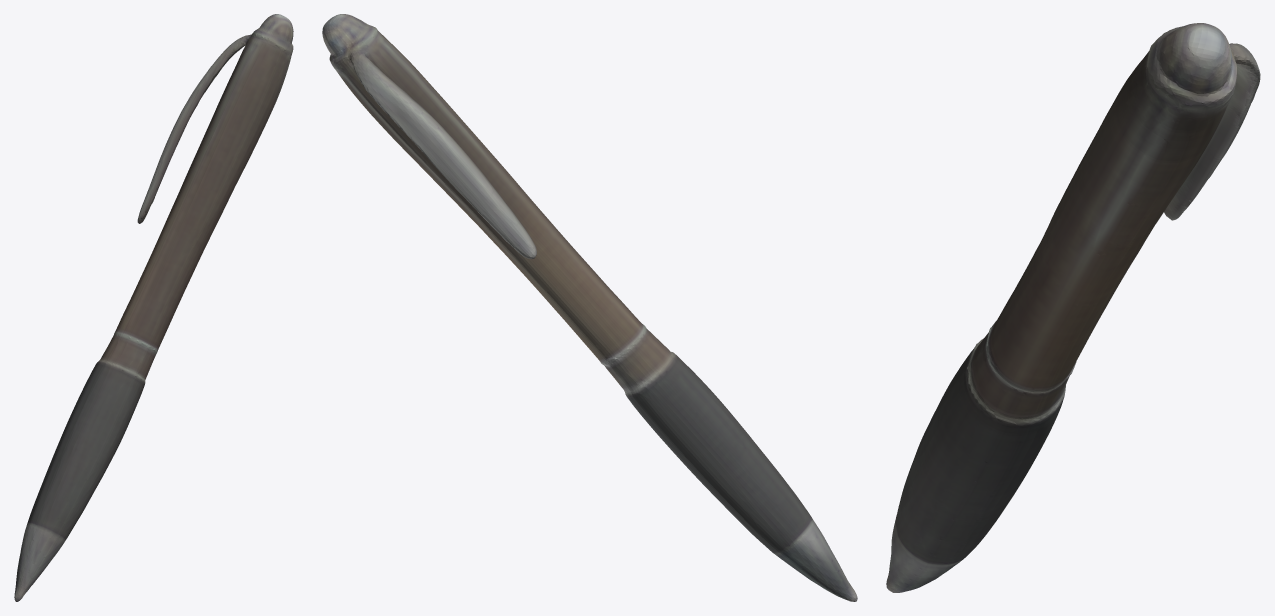
The model's file is frame_0059_source_000059_object.glb.
3 renders of one model, left to right at view 1: azimuth 30°, elevation 25°; view 2: azimuth 150°, elevation 25°; view 3: azimuth 270°, elevation 25°, orthographic. The views are drawn at different scales.
Visible parts, largest first — view 1: world; view 2: world; view 3: world.
Boxes of the visible parts, x1,y1,x2,y2 form: world: [14, 14, 293, 601]; world: [322, 14, 857, 601]; world: [886, 23, 1260, 592].
Bounding box in the file's own units: 0.1202 × 0.1455 × 0.0552.
